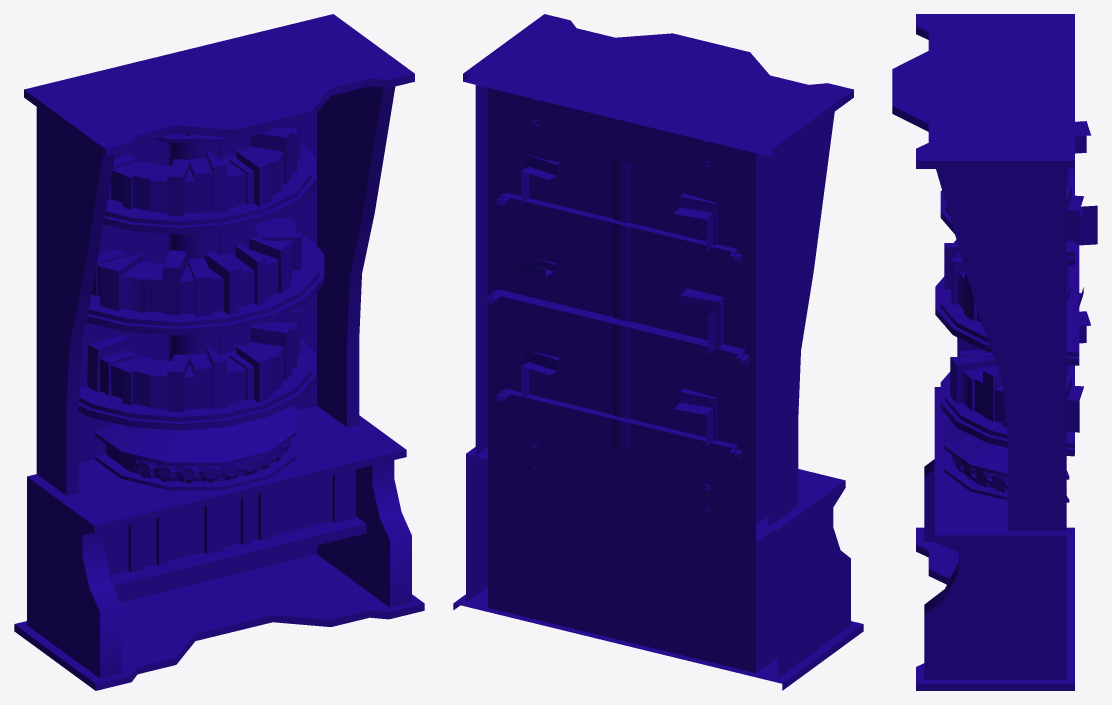
The model's file is CG_Model_TownInt_BookCase_Mar24_ChrisMcknight.FBX.
3 views of the same model, side by side, from view 1: azimuth 30°, elevation 25°; view 2: azimuth 150°, elevation 25°; view 3: azimuth 270°, elevation 25° (orthographic). The views are drawn at different scales.
Parts seen in each view (by area): view 1: Object004; view 2: Object004; view 3: Object004.
Part boxes in pixels (<box>): Object004: <box>14,14,424,690</box>; Object004: <box>453,14,863,690</box>; Object004: <box>892,14,1097,690</box>.
Bounding box in the file's own units: 34.29 × 53.7 × 19.05.
